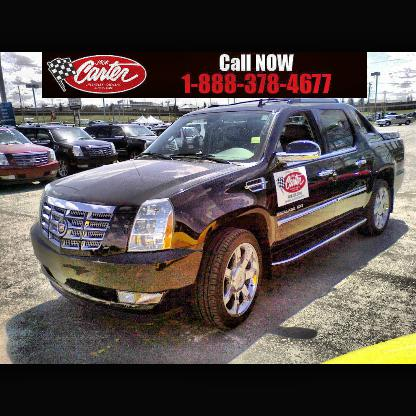Cadillac Escalade EXT Crew Cab 2007: (30, 97, 408, 331)
